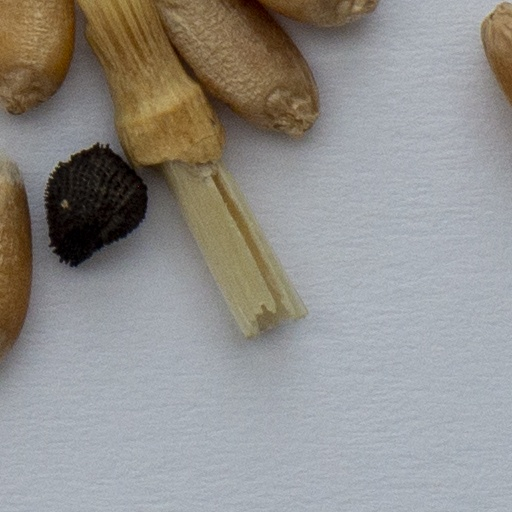Peel-poly: (77, 0, 305, 338)
